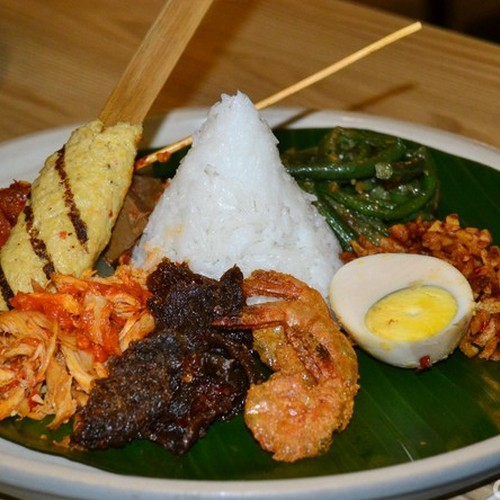nasi campur bali: (18, 103, 485, 460)
